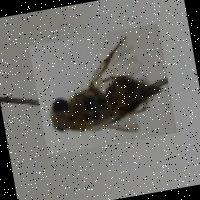Oriental-fruit-fly: (27, 22, 176, 154)
